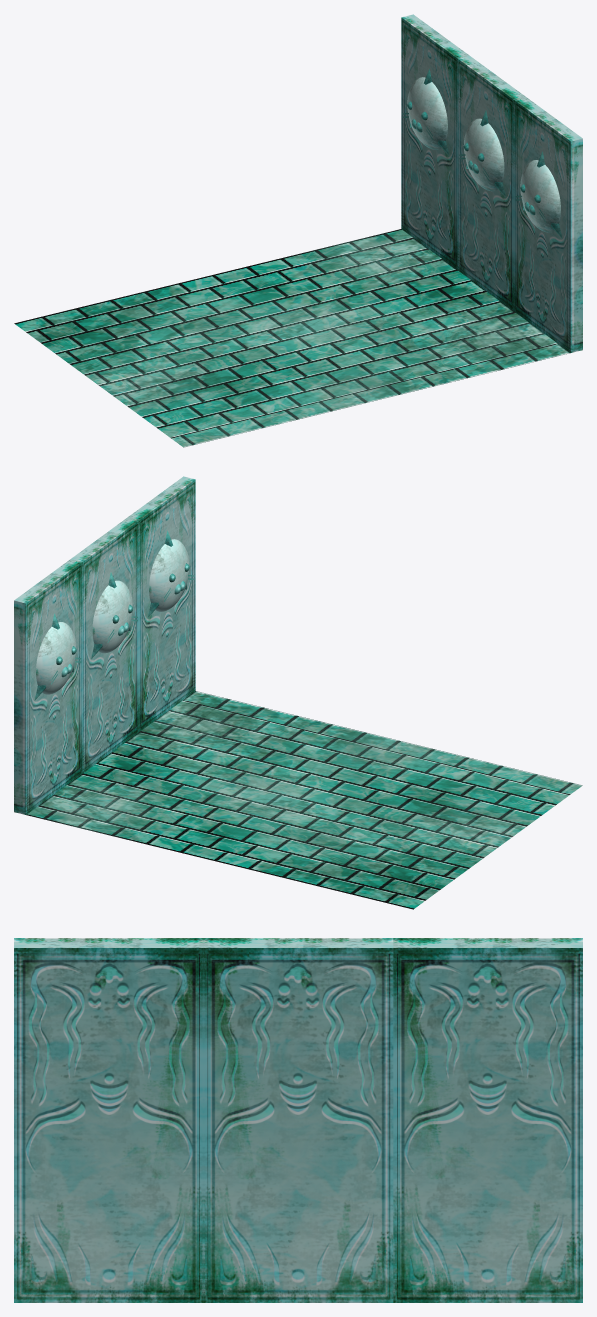
File: background.fbx
The picture shows the model from 3 angles, top to bottom: view 1: azimuth 30°, elevation 25°; view 2: azimuth 150°, elevation 25°; view 3: azimuth 270°, elevation 25°; orthographic projection. The views are drawn at different scales.
Visible parts, largest first — view 1: floor_mdl, wall_mdl; view 2: floor_mdl, wall_mdl; view 3: wall_mdl.
Boxes of the visible parts, <box> form: floor_mdl: <box>14,229,570,447</box>; wall_mdl: <box>401,14,582,352</box>; floor_mdl: <box>26,691,582,909</box>; wall_mdl: <box>14,476,195,814</box>; wall_mdl: <box>14,938,582,1302</box>.
Bounding box in the file's own units: 1963 × 994 × 1444.
Materials: 2 (2 with a texture image).
